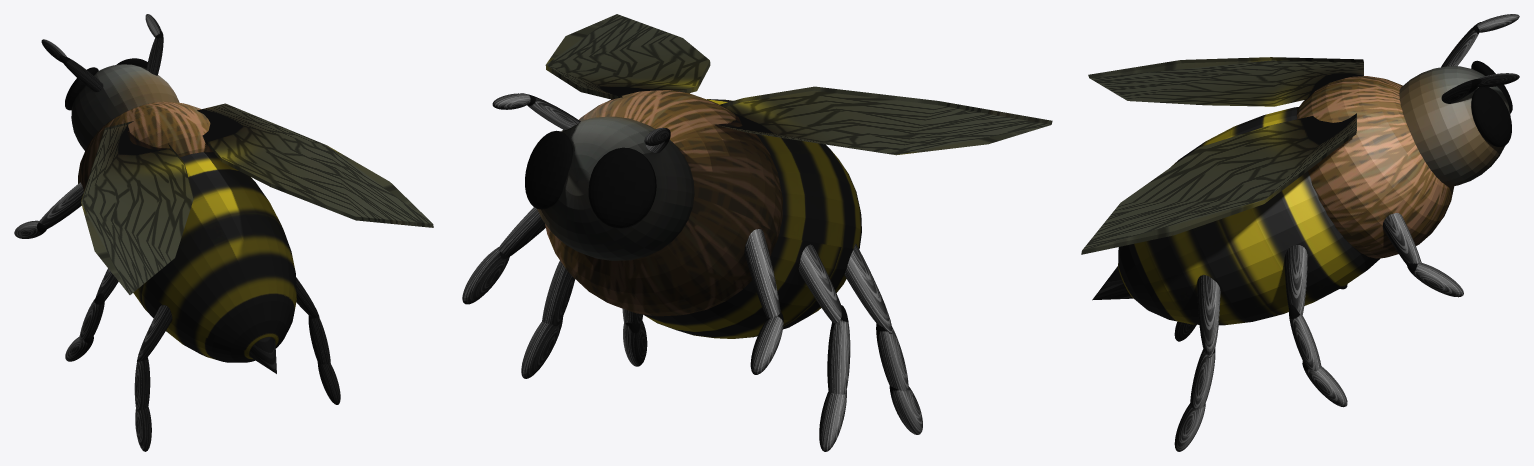
File: abelha6.fbx
3 views of the same model, side by side, from view 1: azimuth 30°, elevation 25°; view 2: azimuth 150°, elevation 25°; view 3: azimuth 270°, elevation 25° (orthographic). The views are drawn at different scales.
Parts seen in each view (by area): view 1: Sphere.004, Sphere.002, Sphere.001; view 2: Sphere.004, Sphere.002, Sphere.001; view 3: Sphere.004, Sphere.001, Sphere.002.
Part boxes in pixels (x1=…): Sphere.004: x1=14, y1=14, x2=340, y2=451; Sphere.002: x1=81, y1=121, x2=193, y2=294; Sphere.001: x1=197, y1=103, x2=433, y2=227; Sphere.004: x1=462, y1=90, x2=922, y2=451; Sphere.002: x1=715, y1=86, x2=1052, y2=155; Sphere.001: x1=545, y1=14, x2=710, y2=99; Sphere.004: x1=1092, y1=14, x2=1519, y2=451; Sphere.001: x1=1081, y1=113, x2=1356, y2=254; Sphere.002: x1=1088, y1=57, x2=1363, y2=106.
Size of the model in its own units: 275 by 260 by 294.
Materials: 28 (28 with a texture image).
